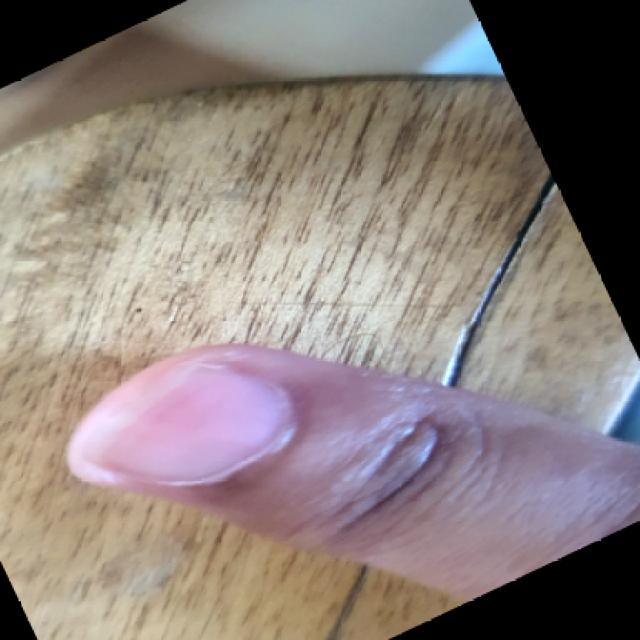Nail: (80, 355, 288, 478)
